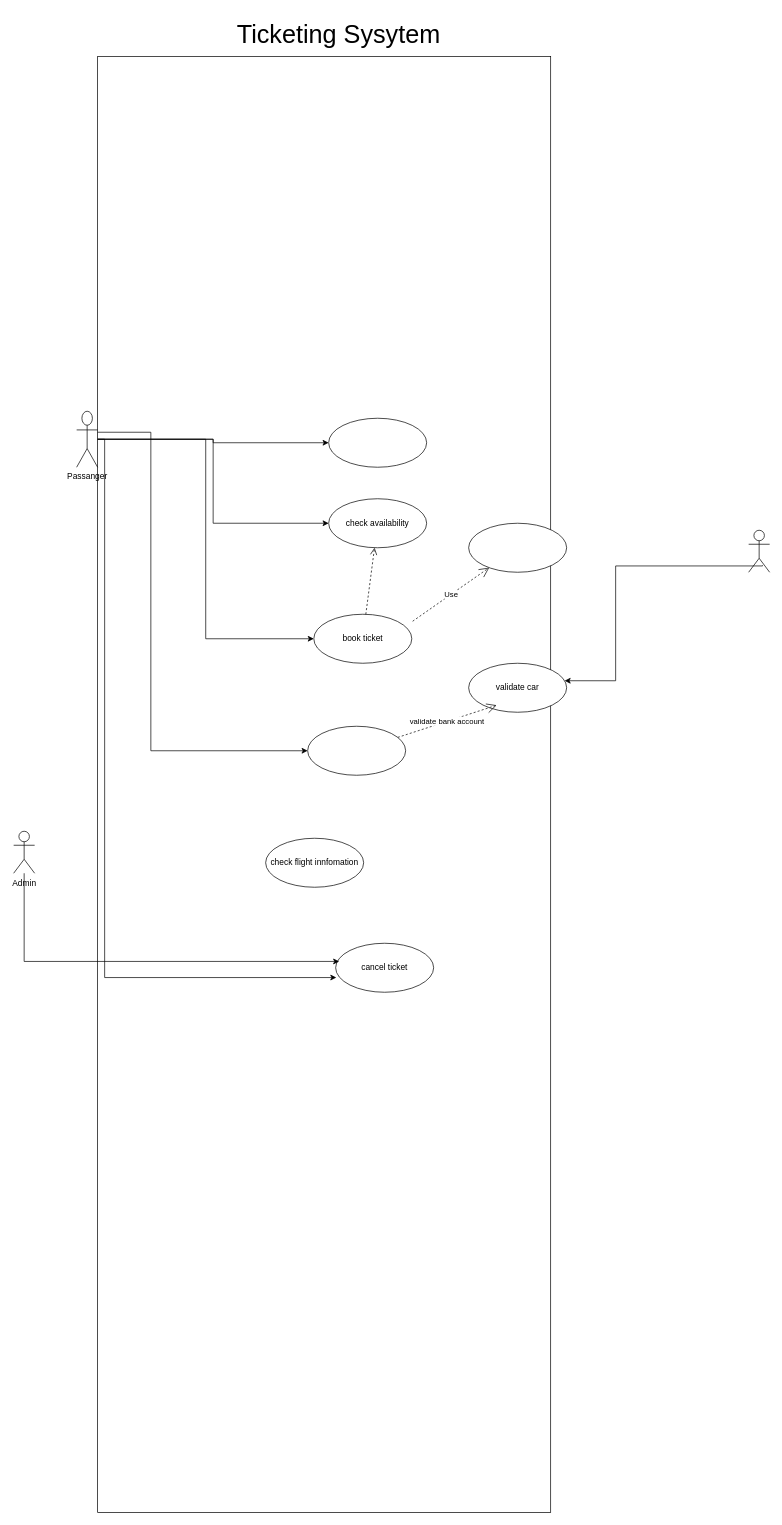
This 782x1525 diagram has some shape labels left out. Here are the shapes that lost their labels. From the top down, the centre of each, then its label:
At point 377,442: "Login".
At point 517,547: "choose seat".
At point 759,551: "bank".
At point 356,750: "payment".
